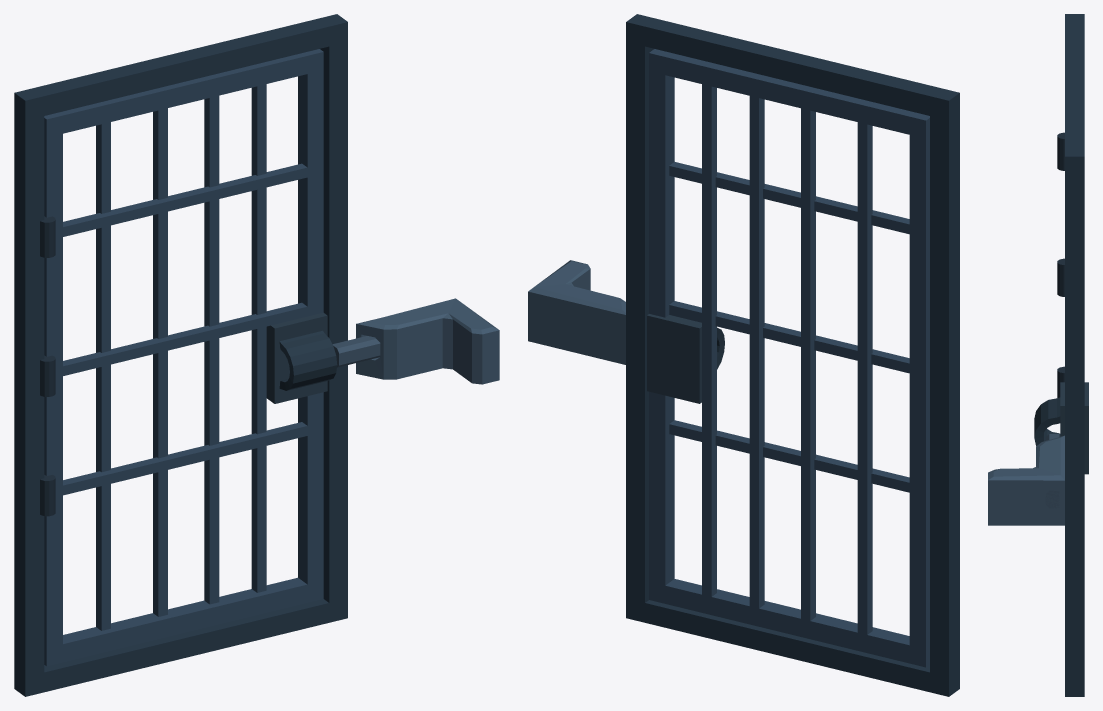
The model's file is gate.fbx.
3 views of the same model, side by side, from view 1: azimuth 30°, elevation 25°; view 2: azimuth 150°, elevation 25°; view 3: azimuth 270°, elevation 25° (orthographic). The views are drawn at different scales.
Visible parts, largest first — view 1: gate-door, gate-frame, gate-lock-mechanism, gate-lock, gate-lock-pipe; view 2: gate-door, gate-frame, gate-lock-mechanism; view 3: gate-frame, gate-lock-mechanism, gate-door, gate-lock, gate-lock-pipe.
Boxes of the visible parts, x1,y1,x2,y2 form: gate-door: (40, 49, 327, 666); gate-frame: (14, 14, 347, 696); gate-lock-mechanism: (356, 298, 499, 384); gate-lock: (279, 330, 337, 390); gate-lock-pipe: (332, 336, 380, 367); gate-door: (647, 49, 929, 667); gate-frame: (626, 14, 959, 696); gate-lock-mechanism: (528, 260, 625, 364); gate-frame: (1065, 14, 1084, 696); gate-lock-mechanism: (988, 435, 1064, 525); gate-door: (1057, 132, 1088, 474); gate-lock: (1034, 397, 1060, 445); gate-lock-pipe: (1045, 434, 1059, 508).
Bounding box in the file's own units: 2.35 × 0.5248 × 3.1.
1 material, 1 textured.
